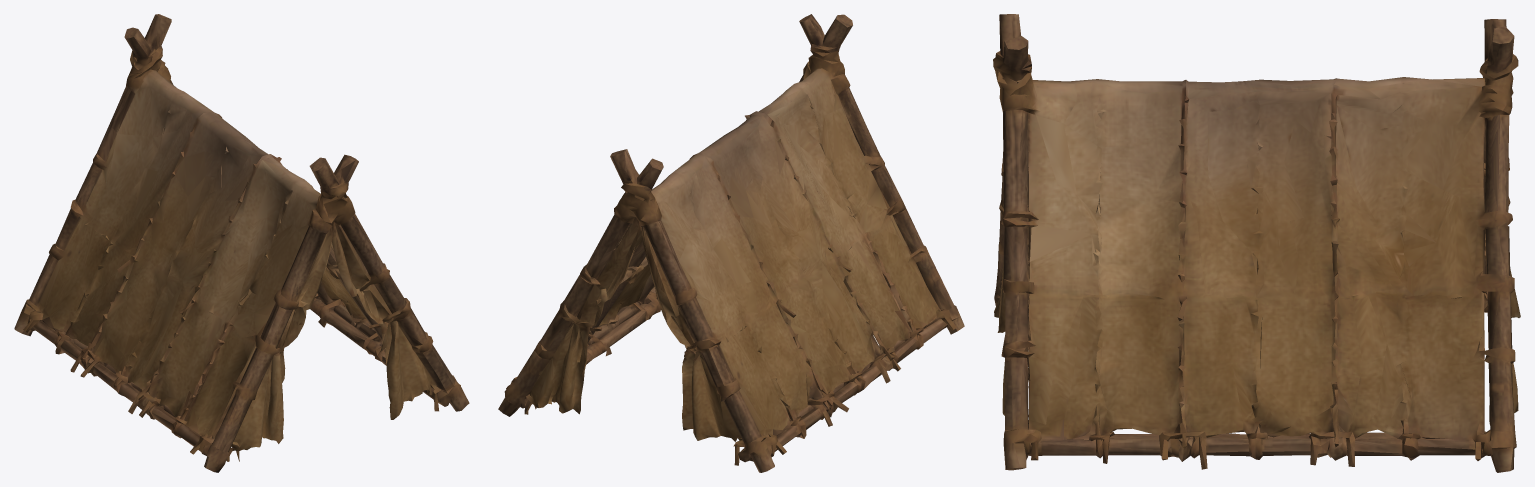
The model's file is hide-tent-model.glb.
3 renders of one model, left to right at view 1: azimuth 30°, elevation 25°; view 2: azimuth 150°, elevation 25°; view 3: azimuth 270°, elevation 25°, orthographic. The views are drawn at different scales.
Parts seen in each view (by area): view 1: hide-tent.001; view 2: hide-tent.001; view 3: hide-tent.001.
Boxes of the visible parts, x1,y1,x2,y2 form: hide-tent.001: (14,14,469,472); hide-tent.001: (498,14,964,472); hide-tent.001: (993,14,1520,472).
Size of the model in its own units: 3.5 by 3.5 by 4.48.
Materials: 1 (1 with a texture image).
